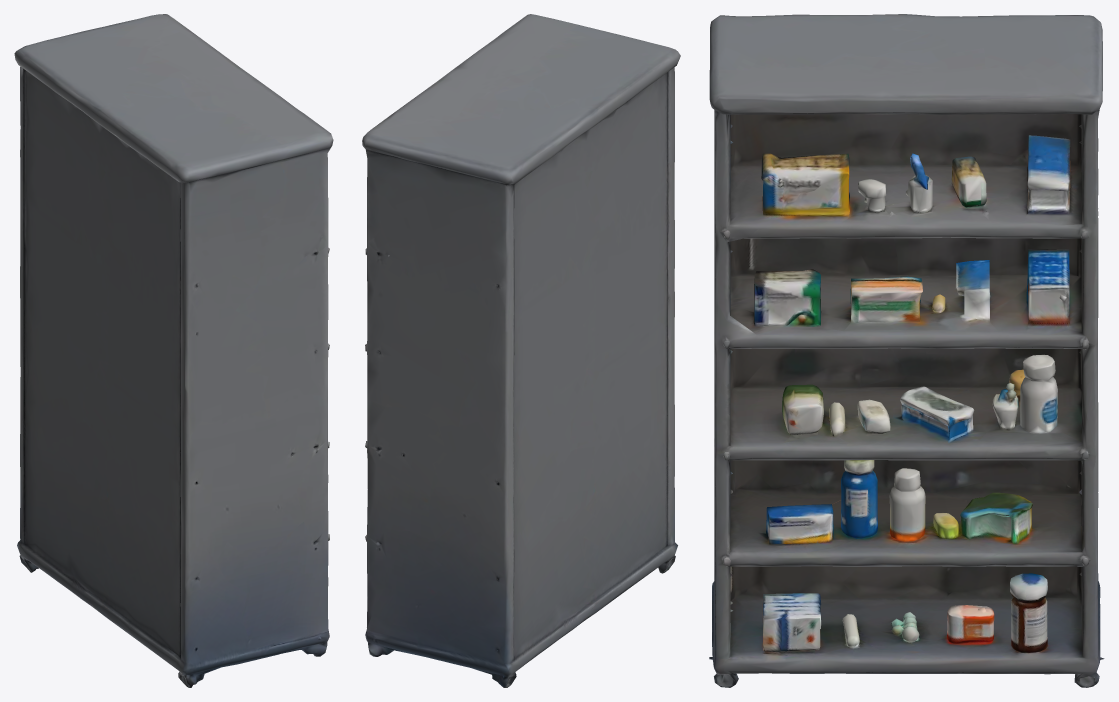
The model's file is shelf.glb.
The picture shows the model from 3 angles, left to right: view 1: azimuth 30°, elevation 25°; view 2: azimuth 150°, elevation 25°; view 3: azimuth 270°, elevation 25°; orthographic projection. The views are drawn at different scales.
Visible parts, largest first — view 1: tripo_node_28d4c1fd-f5e6-4e8a-8fe7-0824364389e5; view 2: tripo_node_28d4c1fd-f5e6-4e8a-8fe7-0824364389e5; view 3: tripo_node_28d4c1fd-f5e6-4e8a-8fe7-0824364389e5.
Part boxes in pixels (<box>): tripo_node_28d4c1fd-f5e6-4e8a-8fe7-0824364389e5: <box>14,14,333,687</box>; tripo_node_28d4c1fd-f5e6-4e8a-8fe7-0824364389e5: <box>362,14,680,687</box>; tripo_node_28d4c1fd-f5e6-4e8a-8fe7-0824364389e5: <box>709,14,1104,687</box>.
Bounding box in the file's own units: 0.3062 × 1 × 0.6002.
Materials: 1 (1 with a texture image).
